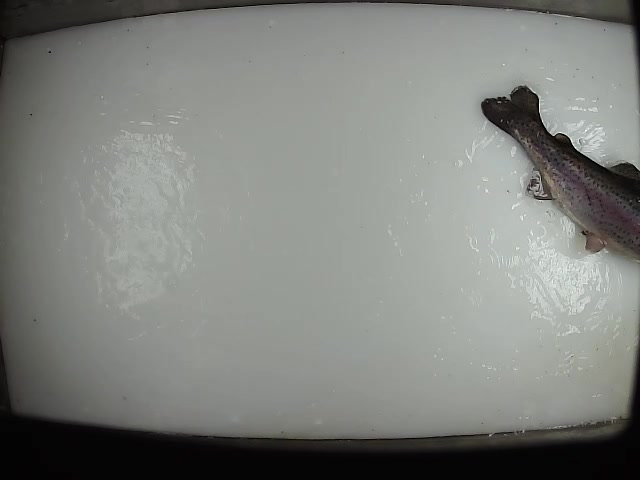fish: (479, 78, 640, 256)
